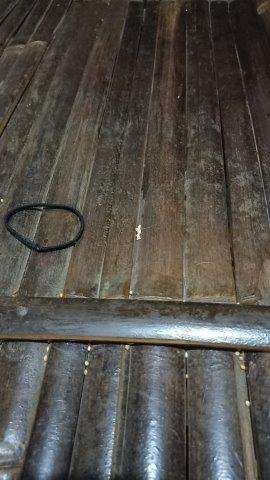karet: (4, 203, 85, 252)
